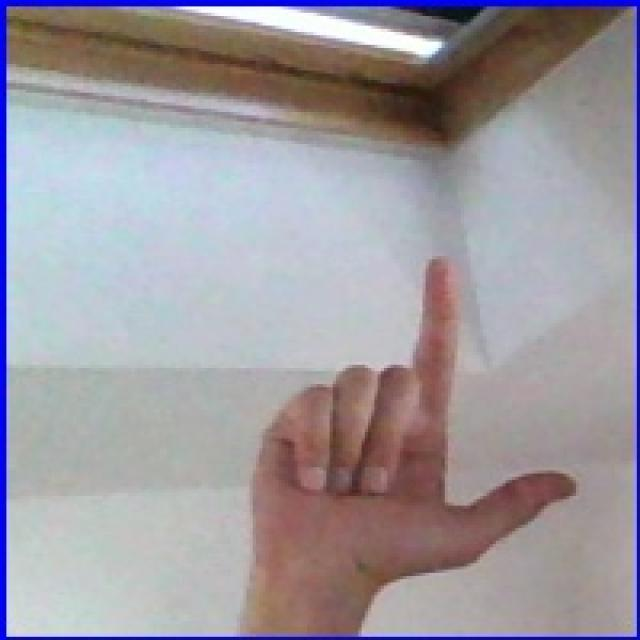Letra L: (197, 237, 595, 614)
